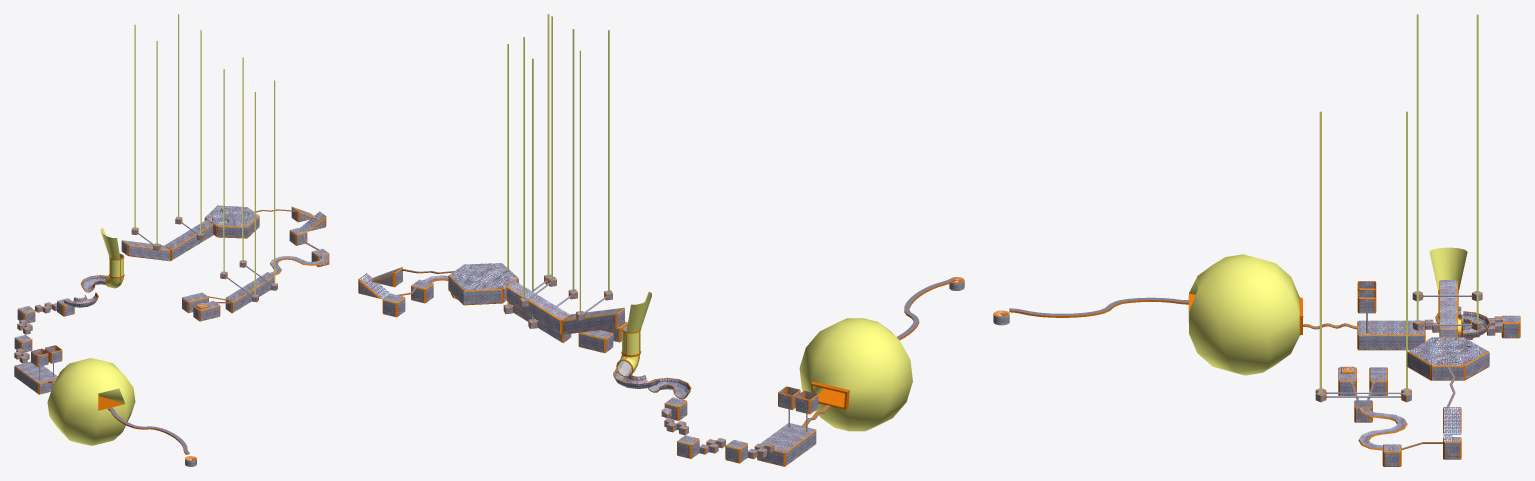
File: Level44.fbx
3 renders of one model, left to right at view 1: azimuth 30°, elevation 25°; view 2: azimuth 150°, elevation 25°; view 3: azimuth 270°, elevation 25°, orthographic. The views are drawn at different scales.
Parts seen in each view (by area): view 1: Level44; view 2: Level44; view 3: Level44.
Boxes of the visible parts, left/top/right/bottom form: Level44: left=14, top=14, right=329, bottom=466; Level44: left=358, top=14, right=964, bottom=466; Level44: left=993, top=14, right=1520, bottom=466.
Size of the model in its own units: 9511 by 8530 by 9248.
15 materials, 7 textured.
